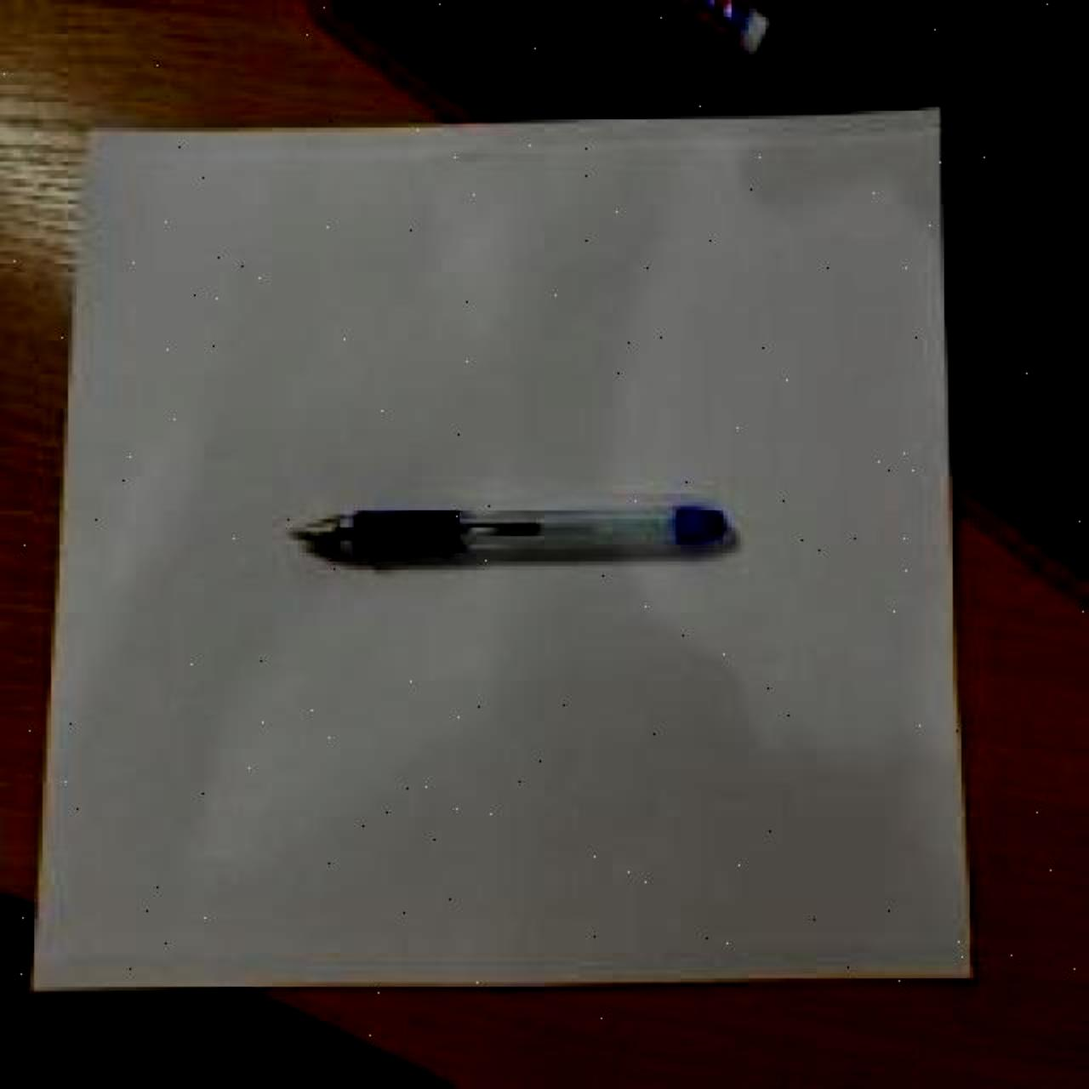pen: (286, 499, 725, 555)
